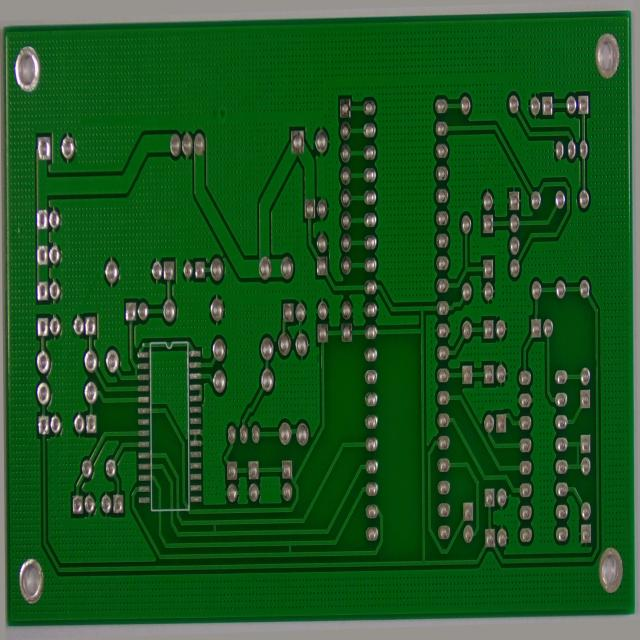short: (571, 447, 589, 488), (281, 542, 294, 565), (205, 521, 217, 541), (129, 354, 139, 375)
